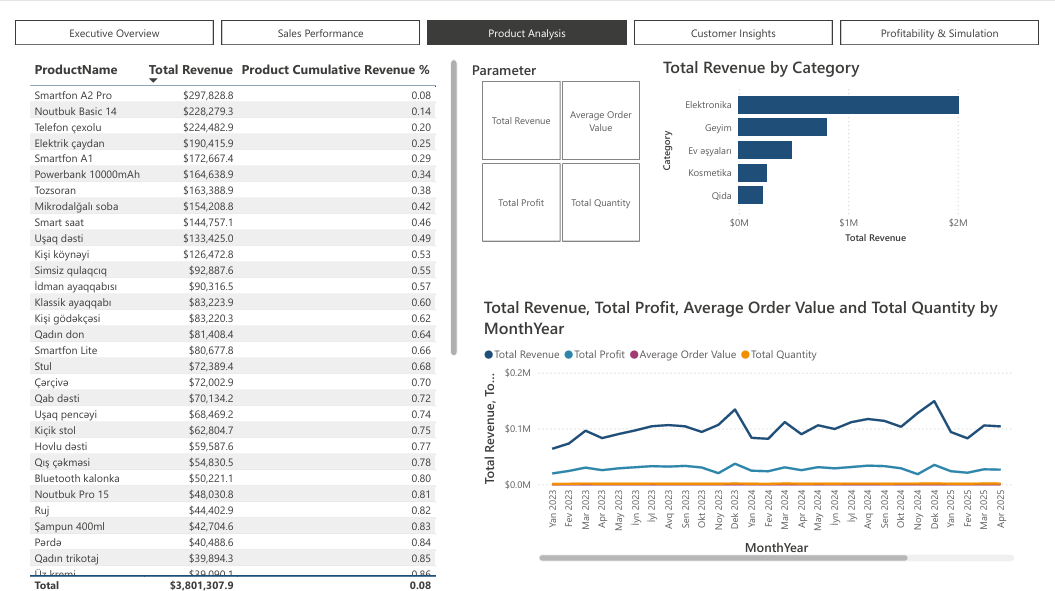

What the dashboard file says about the page in this screenshot:
{"tool":"powerbi","page":{"name":"Product Analysis","canvas":[1280,720],"ordinal":2},"visuals":[{"type":"tableEx","fields":{"Values":["Dim_Product.ProductName","_Measures.Total Revenue","_Measures.Product Cumulative Revenue %"]},"box":[13.2,43.9,544.4,676.1],"z":0},{"type":"pageNavigator","box":[0,0,1280.5,30.7],"z":1000},{"type":"clusteredBarChart","fields":{"Category":["Dim_Category.Category"],"Y":["_Measures.Total Revenue"]},"box":[804.9,43.9,459.5,240],"z":1001},{"type":"slicer","fields":{"Values":["Parameter.Parameter"]},"box":[557.6,43.9,247.3,240],"z":1002},{"type":"lineChart","fields":{"Y":["_Measures.Total Revenue","_Measures.Total Profit","_Measures.Average Order Value","_Measures.Total Quantity"],"Category":["Dim_Date.MonthYear"]},"box":[581,343.9,673.2,338],"z":1003}]}

Visuals, with their boxes in screenshot pixels (x1, y1, x2, y2), scaled from the page's 1280x720 canvas onto the 1055x591 screenshot:
tableEx - Dim_Product.ProductName x _Measures.Total Revenue: rect(11, 36, 460, 590)
pageNavigator: rect(0, 0, 1054, 25)
clusteredBarChart - Dim_Category.Category x _Measures.Total Revenue: rect(663, 36, 1042, 233)
slicer - Parameter.Parameter: rect(460, 36, 663, 233)
lineChart - _Measures.Total Revenue x _Measures.Total Profit: rect(479, 282, 1034, 560)
